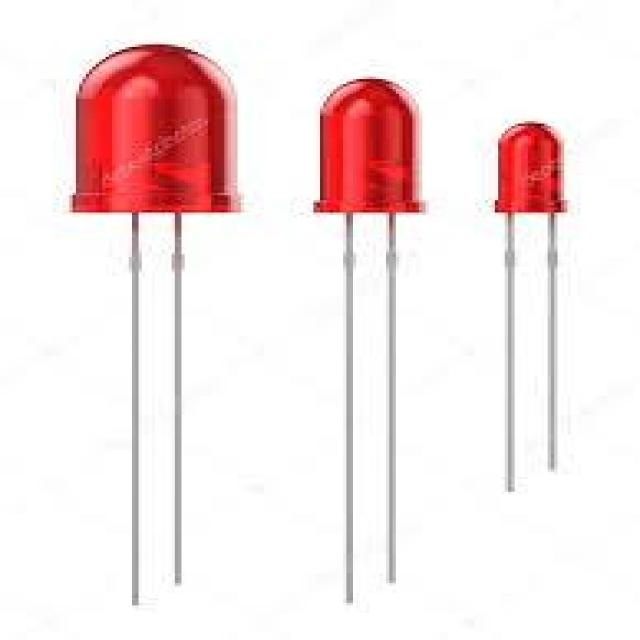Led: (72, 45, 239, 604), (315, 79, 422, 603), (499, 123, 562, 491)
